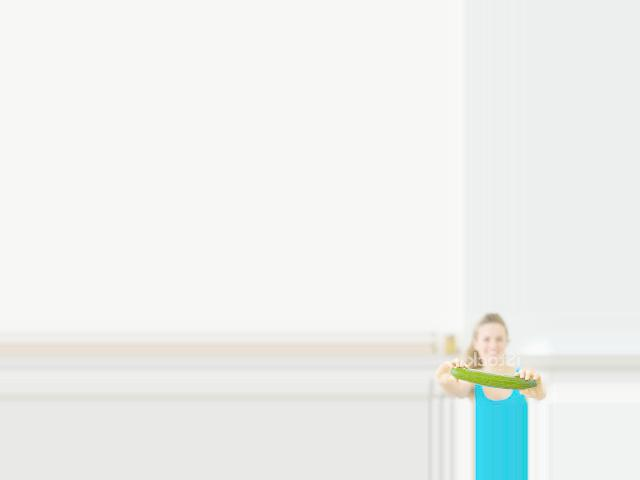cucumber: (449, 368, 539, 390)
